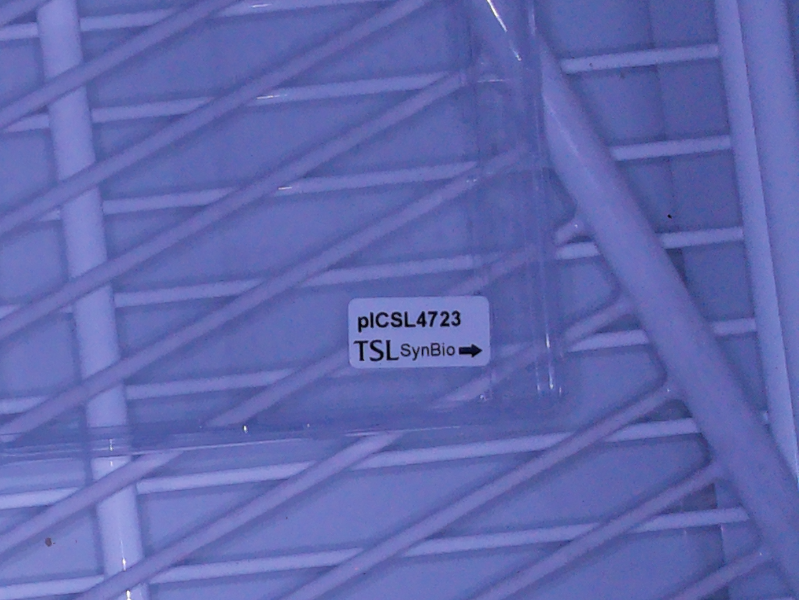plate: (1, 1, 574, 465)
